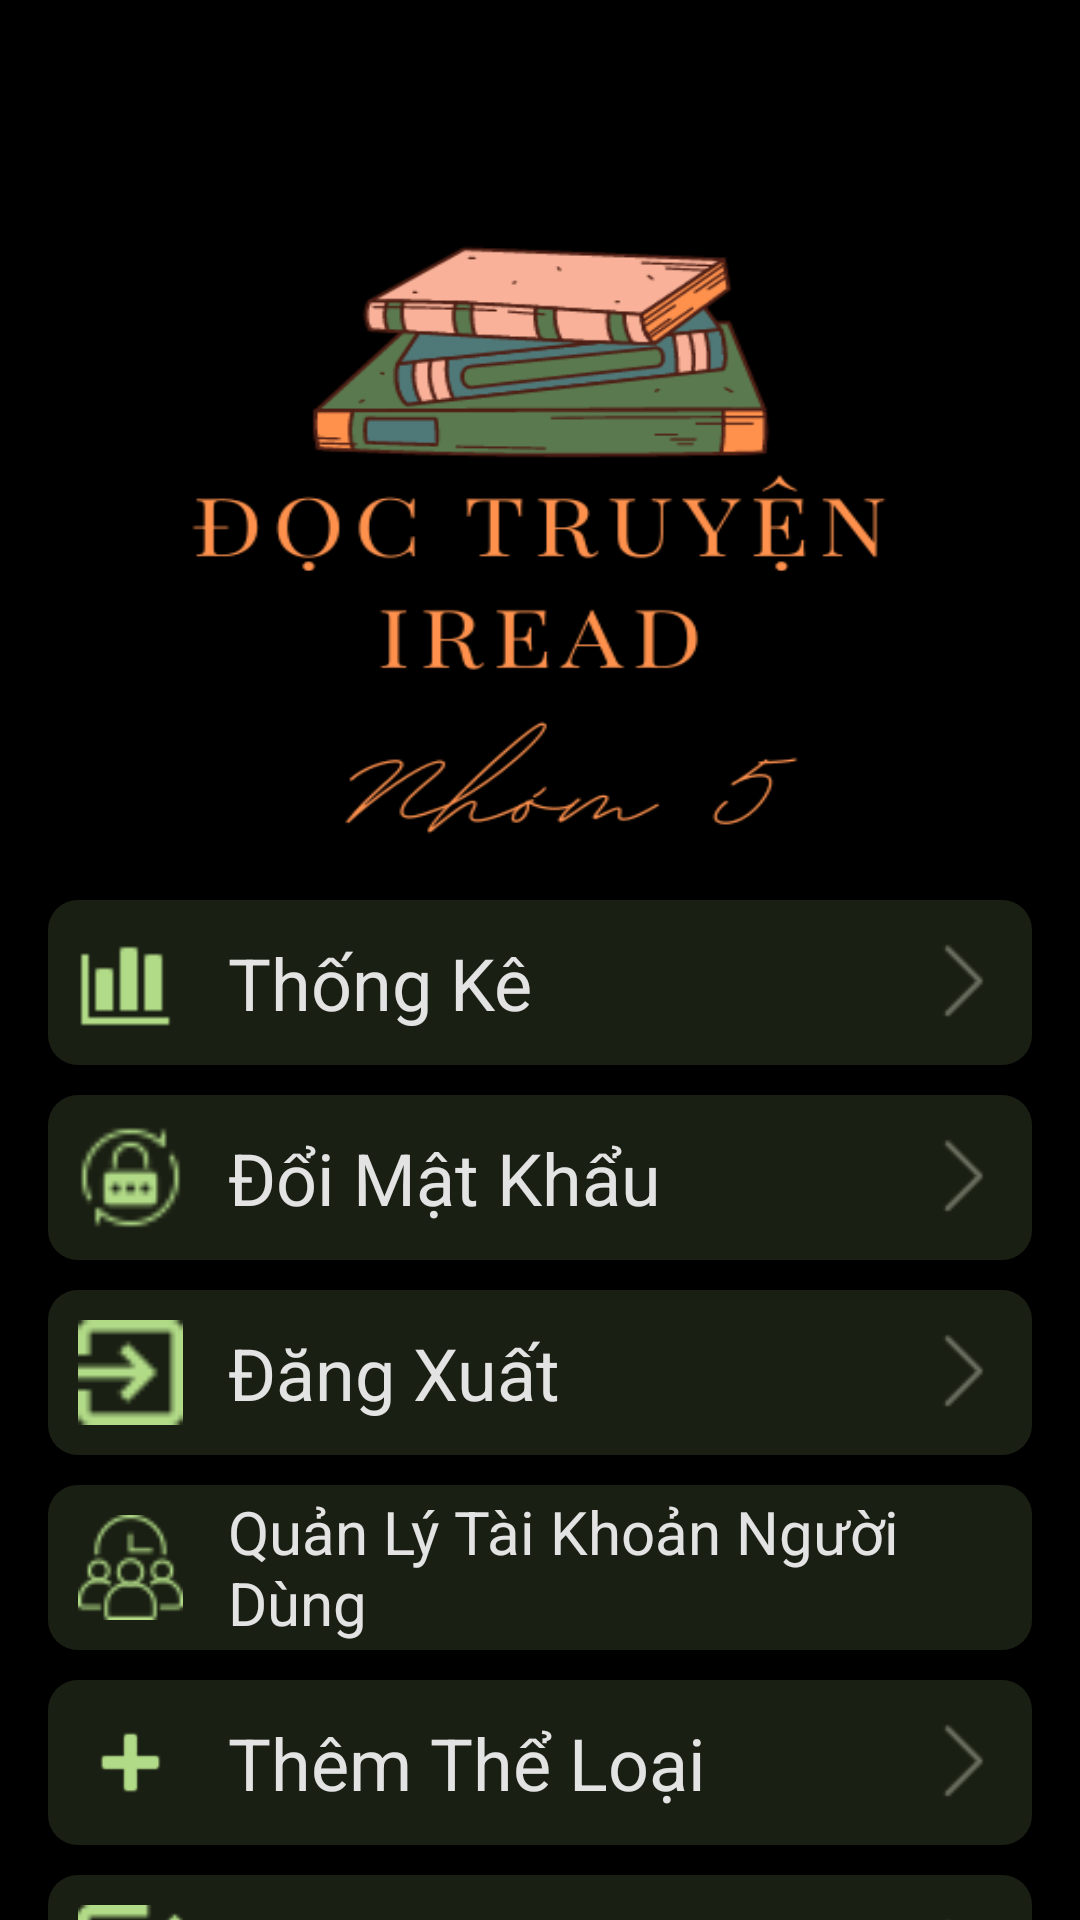

Icons on this 1080 x 1920 Android screen, each with its box as (left=x1, top=y1, right=x2, bottom=y2):
add: (left=101, top=1733, right=160, bottom=1792)
dangxuat: (left=78, top=1320, right=183, bottom=1425)
doimatkhauuu: (left=81, top=1128, right=180, bottom=1227)
management user: (left=78, top=1515, right=183, bottom=1620)
statistical: (left=80, top=946, right=170, bottom=1026)
